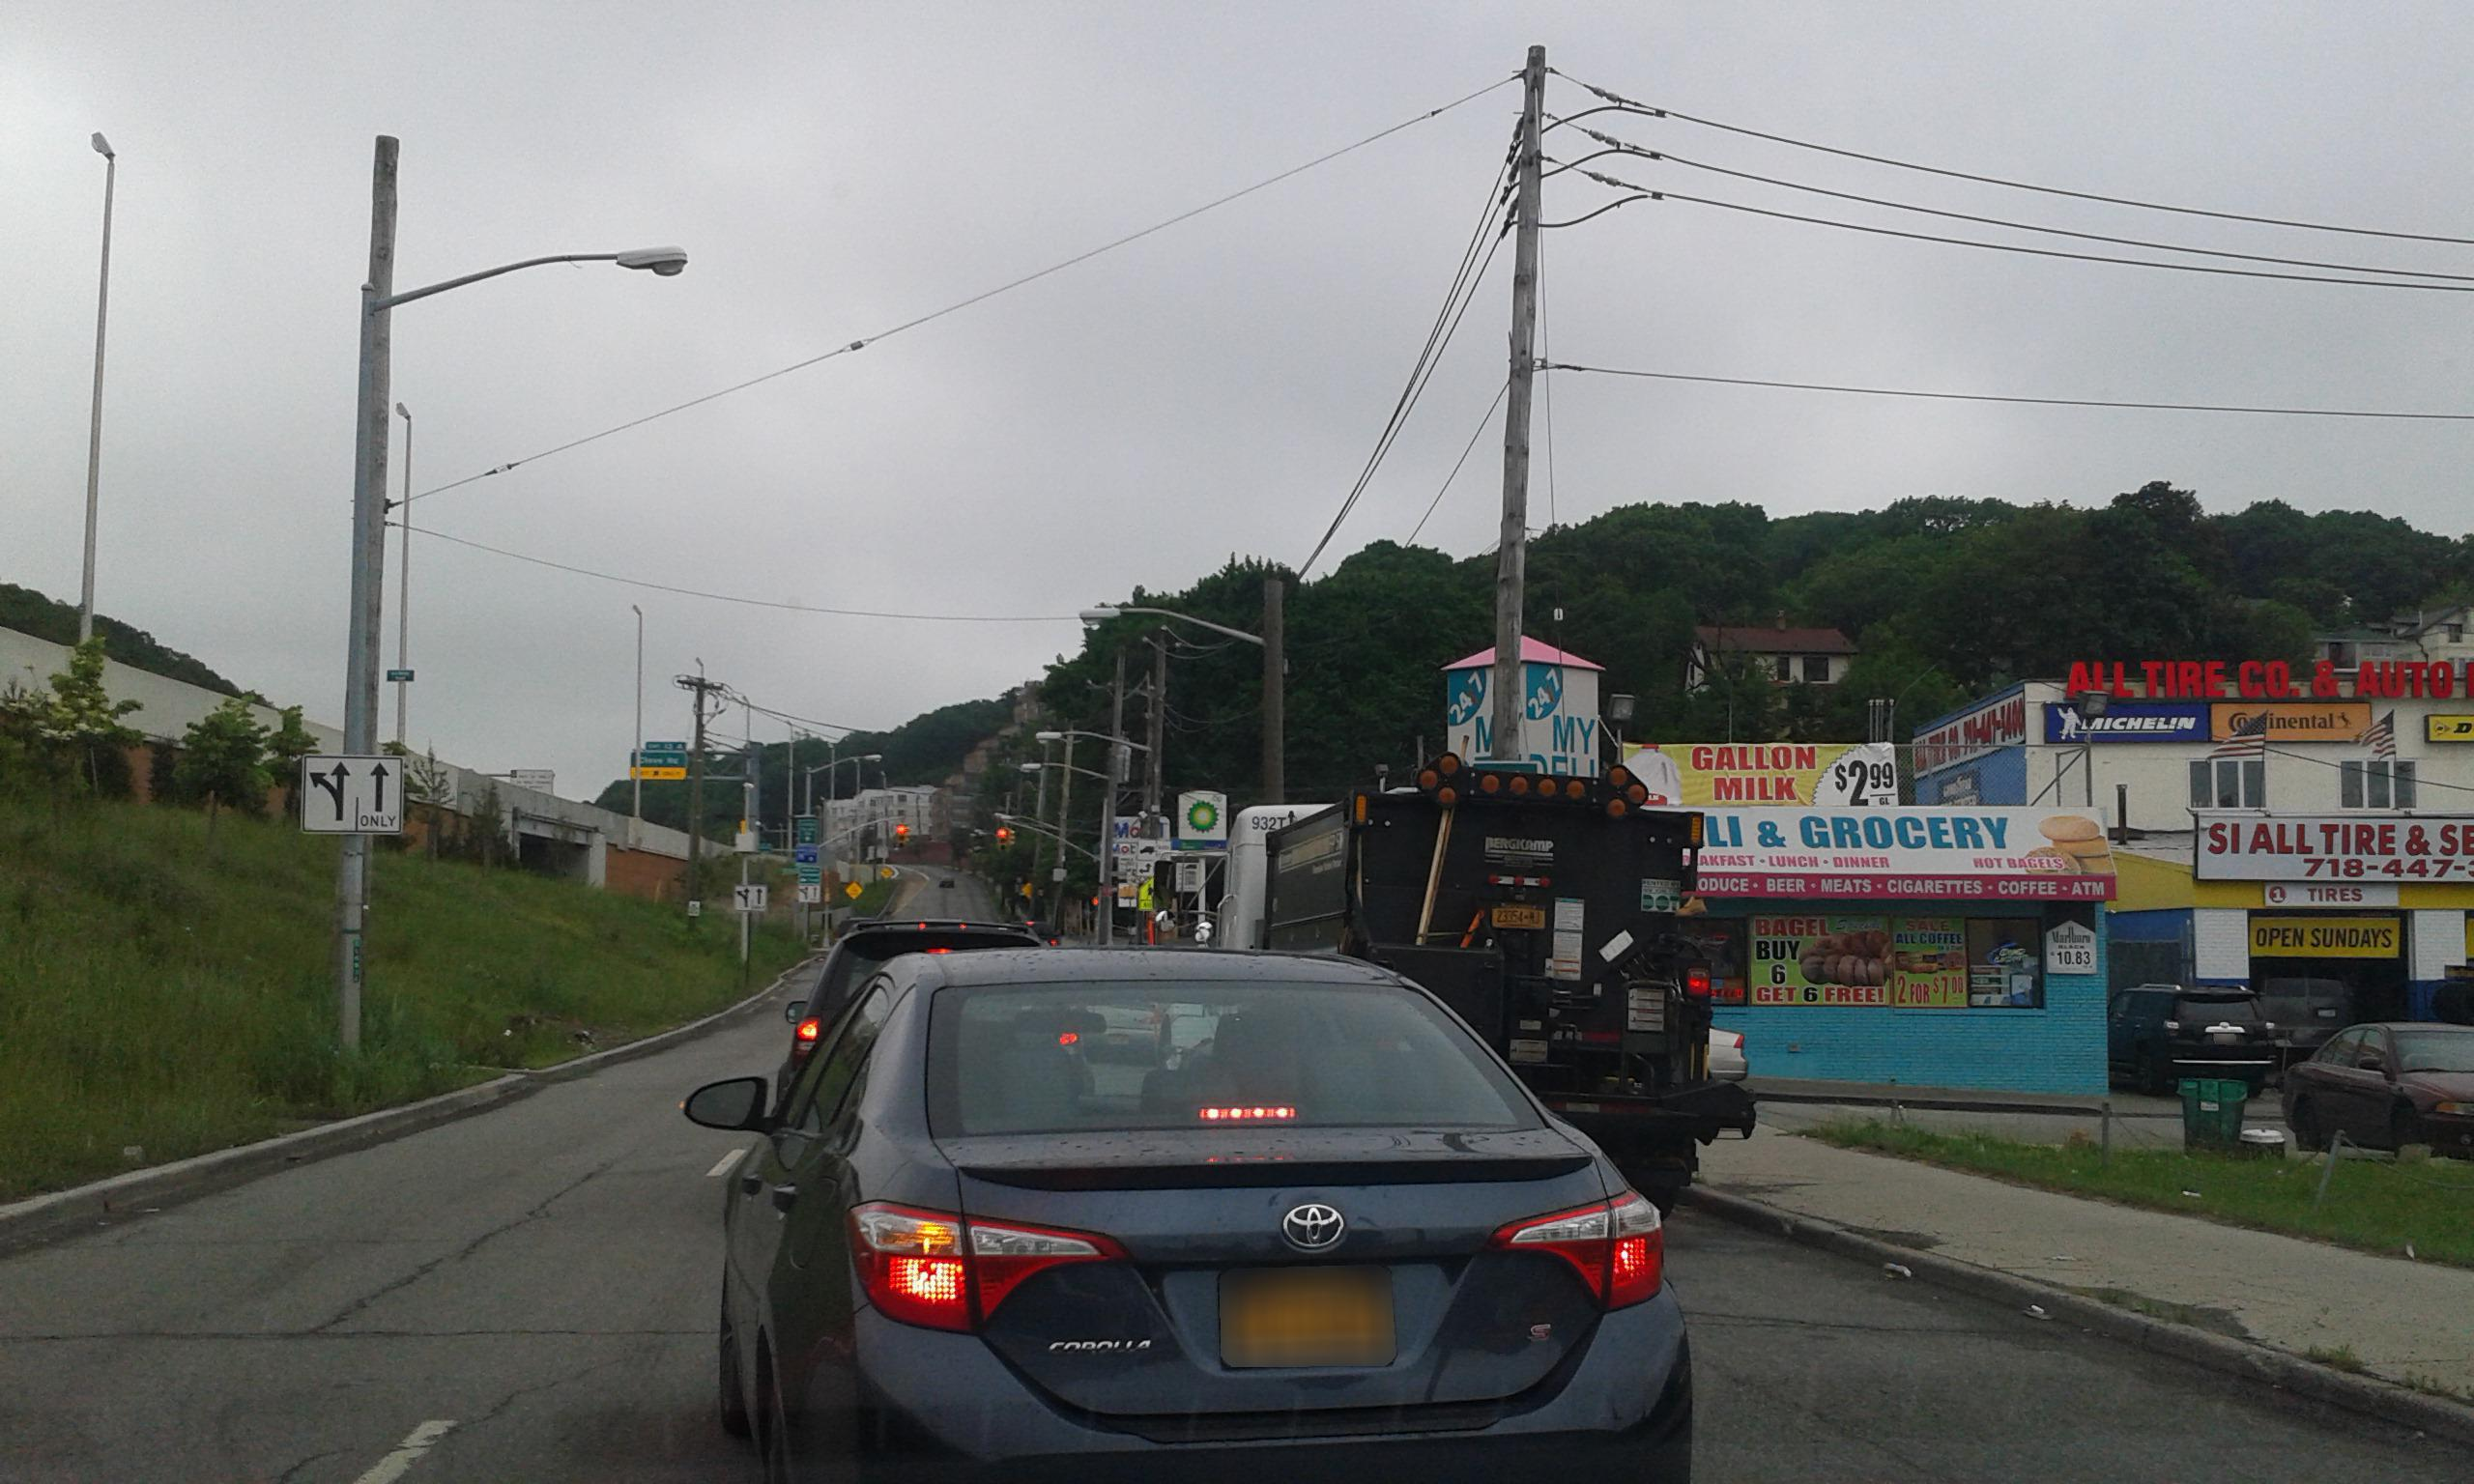vinyl banner: (1605, 723, 1905, 811)
